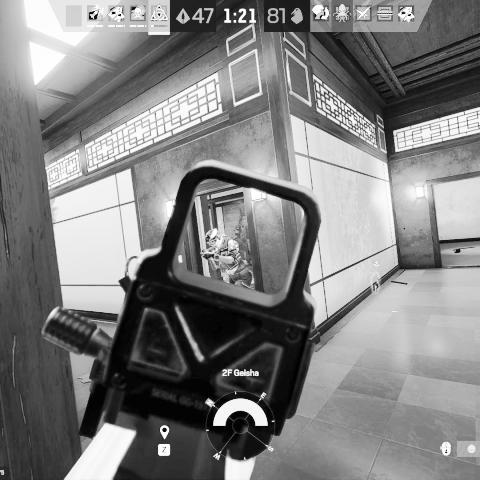Character: (200, 227, 254, 290)
Friend_label: (364, 259, 388, 276)
Head: (204, 228, 222, 247)
